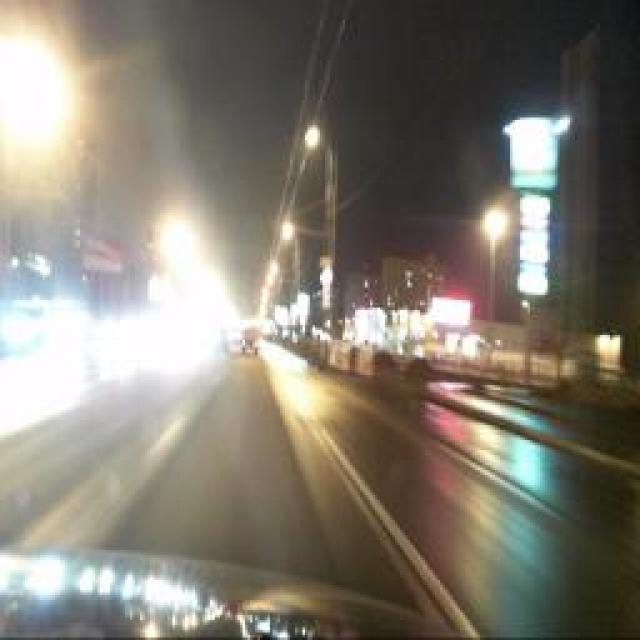sign: (321, 285, 331, 300)
